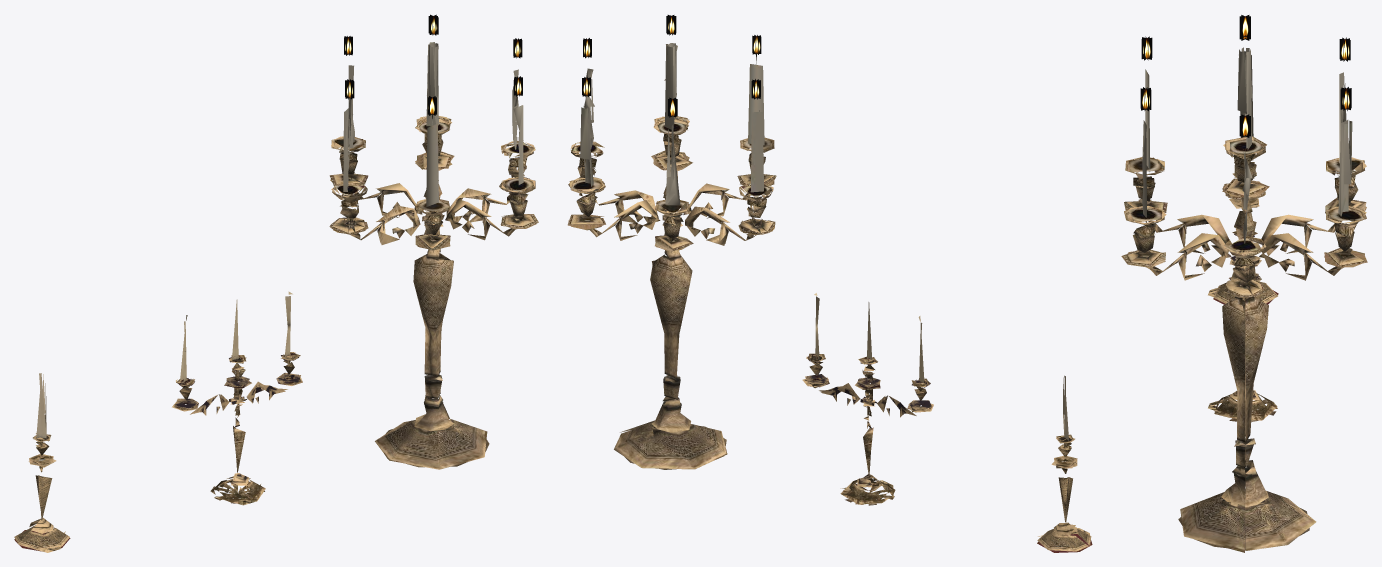
The model's file is brass_candleholders.glb.
3 renders of one model, left to right at view 1: azimuth 30°, elevation 25°; view 2: azimuth 150°, elevation 25°; view 3: azimuth 270°, elevation 25°, orthographic. The views are drawn at different scales.
Parts seen in each view (by area): view 1: brass_candleholder_03, brass_candleholder_02, brass_candleholder_01; view 2: brass_candleholder_03, brass_candleholder_02, brass_candleholder_01; view 3: brass_candleholder_03, brass_candleholder_02, brass_candleholder_01.
Boxes of the visible parts, x1=… form: brass_candleholder_03: x1=329, y1=14, x2=538, y2=469; brass_candleholder_02: x1=172, y1=291, x2=302, y2=505; brass_candleholder_01: x1=14, y1=373, x2=70, y2=552; brass_candleholder_03: x1=567, y1=15, x2=776, y2=469; brass_candleholder_02: x1=802, y1=293, x2=933, y2=505; brass_candleholder_01: x1=1037, y1=375, x2=1092, y2=552; brass_candleholder_03: x1=1121, y1=15, x2=1367, y2=552; brass_candleholder_02: x1=1208, y1=231, x2=1277, y2=421; brass_candleholder_01: x1=1208, y1=173, x2=1278, y2=304.
Size of the model in its own units: 1.06 by 0.8374 by 0.369.
Materials: 5 (5 with a texture image).
